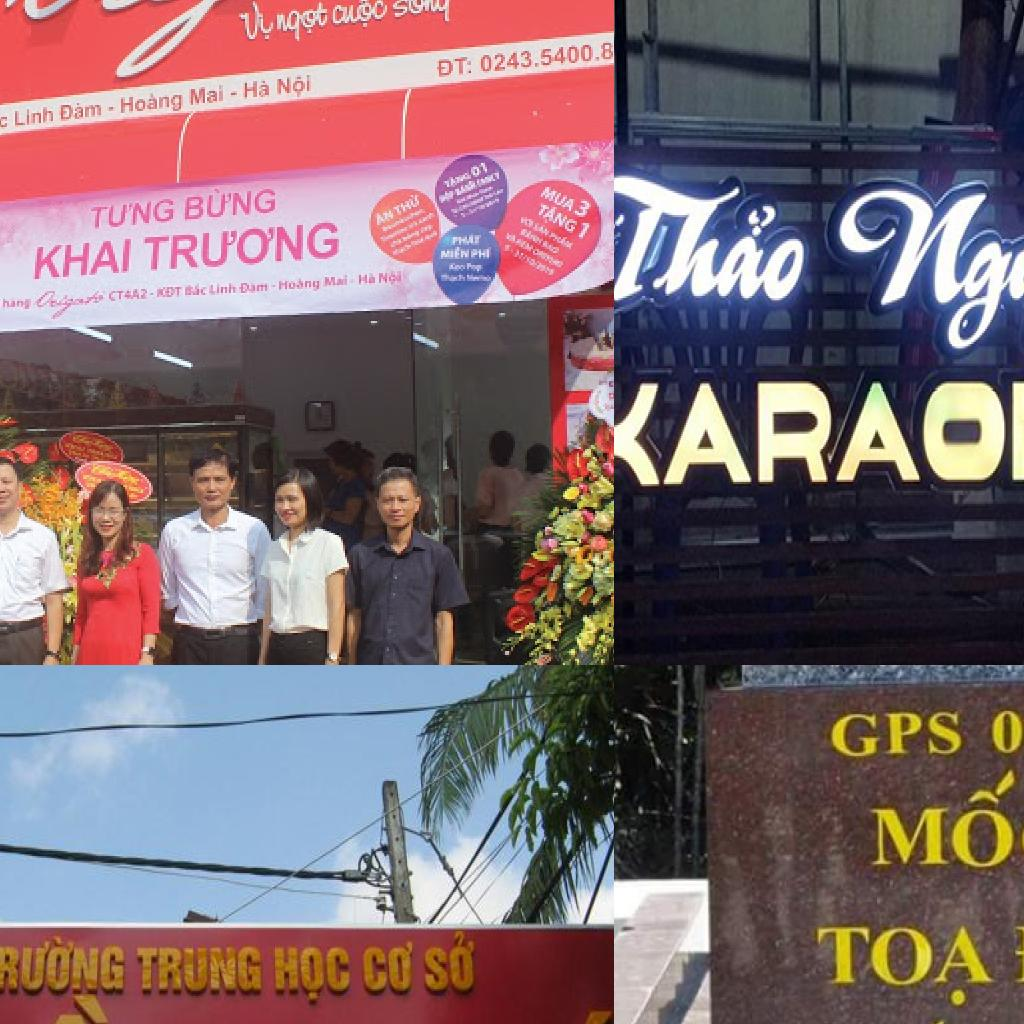text: (614, 381, 1024, 490), (0, 0, 469, 95), (823, 169, 1024, 361), (614, 160, 812, 319), (815, 922, 1012, 1010), (866, 768, 1024, 874), (141, 221, 341, 273), (0, 934, 126, 990), (475, 31, 614, 79), (829, 710, 964, 759), (136, 946, 264, 992), (31, 237, 137, 283), (274, 945, 352, 1001), (183, 183, 285, 221), (422, 930, 478, 992), (87, 197, 177, 233), (35, 287, 111, 323), (117, 83, 187, 121), (362, 942, 415, 992), (275, 0, 331, 47), (391, 0, 459, 33), (231, 1, 277, 49), (331, 0, 389, 35), (989, 705, 1024, 756), (57, 95, 105, 127), (275, 69, 317, 105), (537, 183, 581, 217), (537, 201, 581, 235), (433, 53, 477, 85), (13, 101, 59, 131), (275, 273, 325, 299), (189, 81, 227, 111), (107, 283, 153, 307), (239, 75, 275, 103), (393, 189, 427, 217), (439, 169, 475, 191), (207, 279, 241, 301), (237, 279, 273, 299), (323, 269, 355, 291), (153, 281, 187, 301), (371, 203, 397, 229), (379, 267, 407, 291), (3, 293, 35, 313), (449, 231, 485, 247), (183, 281, 211, 299), (575, 199, 597, 221), (575, 221, 595, 245), (437, 247, 471, 261), (469, 157, 491, 177), (355, 269, 379, 287), (471, 247, 495, 261), (0, 109, 11, 137)
